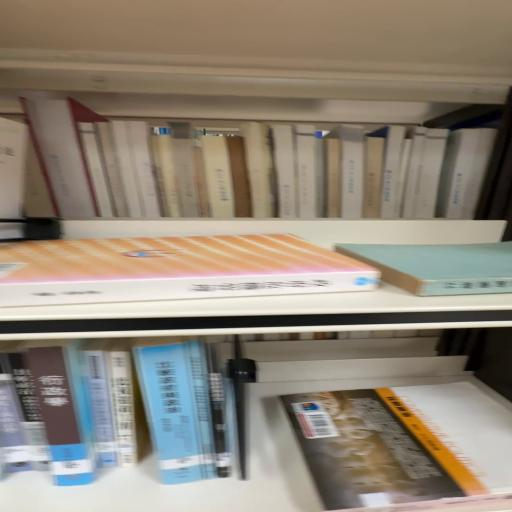flat: (280, 383, 512, 512), (1, 235, 380, 308), (335, 242, 512, 297)
